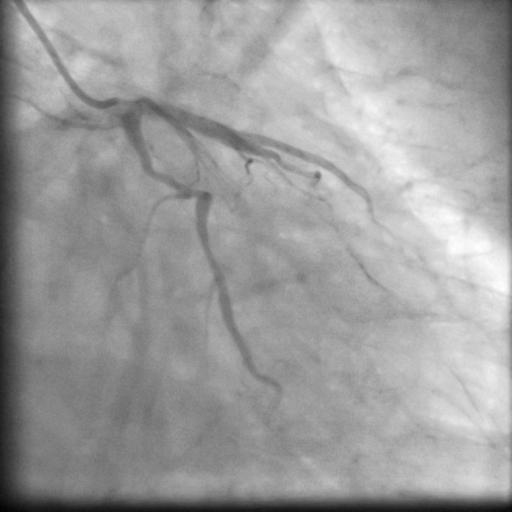Stenosis: (173, 177, 207, 208)
